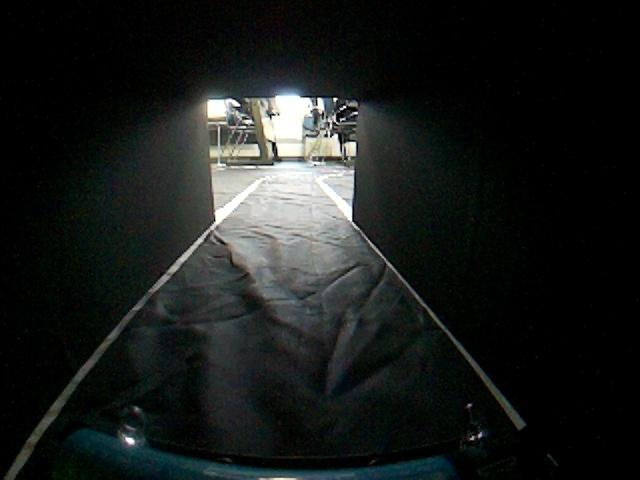in_tunnel: (5, 3, 633, 475)
